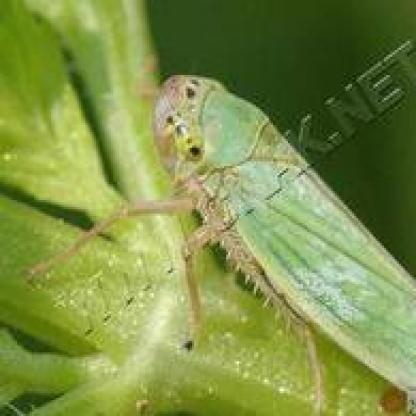Green-Leafhopper: (29, 70, 416, 404)
